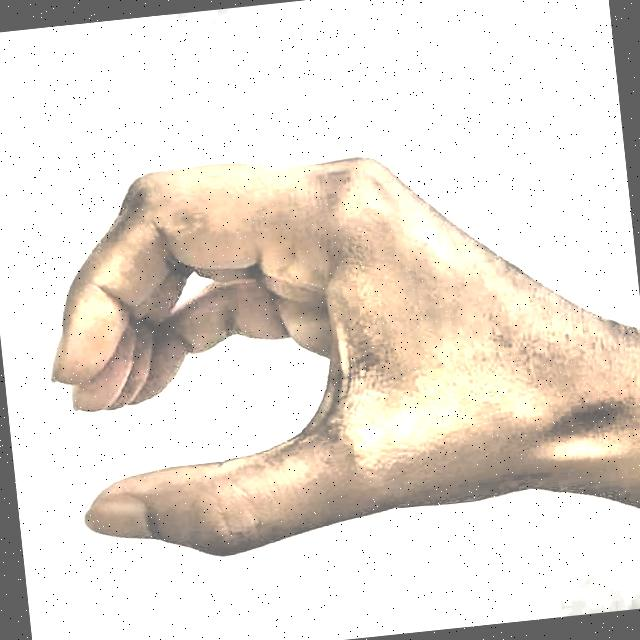Ka: (16, 77, 640, 618)
